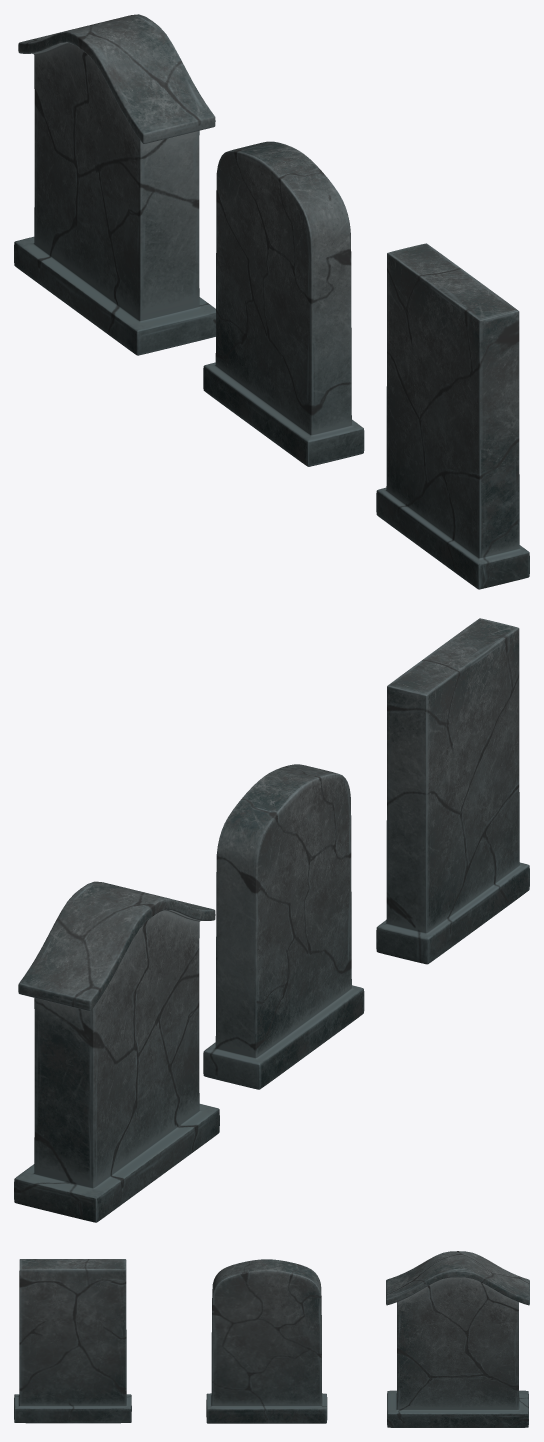
The picture shows the model from 3 angles, top to bottom: view 1: azimuth 30°, elevation 25°; view 2: azimuth 150°, elevation 25°; view 3: azimuth 270°, elevation 25°; orthographic projection. The views are drawn at different scales.
Parts seen in each view (by area): view 1: gravestone_roof_L, Gravestone_square_L, Gravestone_round_L; view 2: gravestone_roof_L, Gravestone_square_L, Gravestone_round_L; view 3: gravestone_roof_L, Gravestone_square_L, Gravestone_round_L.
Boxes of the visible parts, x1,y1,x2,y2 form: gravestone_roof_L: (14,14,215,355); Gravestone_square_L: (376,243,529,589); Gravestone_round_L: (203,141,364,466); gravestone_roof_L: (14,881,219,1222); Gravestone_square_L: (376,618,529,964); Gravestone_round_L: (203,764,364,1089); gravestone_roof_L: (386,1251,529,1427); Gravestone_square_L: (14,1259,131,1423); Gravestone_round_L: (206,1259,327,1423).
Bounding box in the file's own units: 164 × 510 × 1531.
Materials: 1 (1 with a texture image).
